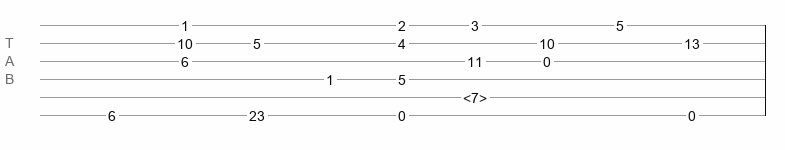0: (398, 108, 406, 118), (543, 54, 551, 64), (688, 108, 696, 118)
1: (181, 18, 189, 28), (326, 72, 334, 82)
10: (177, 36, 193, 46), (539, 36, 555, 46)
11: (467, 54, 483, 64)
13: (684, 36, 700, 46)
2: (398, 18, 406, 28)
23: (249, 108, 265, 118)
3: (471, 18, 479, 28)
4: (398, 36, 406, 46)
5: (253, 36, 261, 46), (398, 72, 406, 82), (616, 18, 624, 28)
6: (108, 108, 116, 118), (181, 54, 189, 64)
harmonic: (463, 90, 487, 100)
